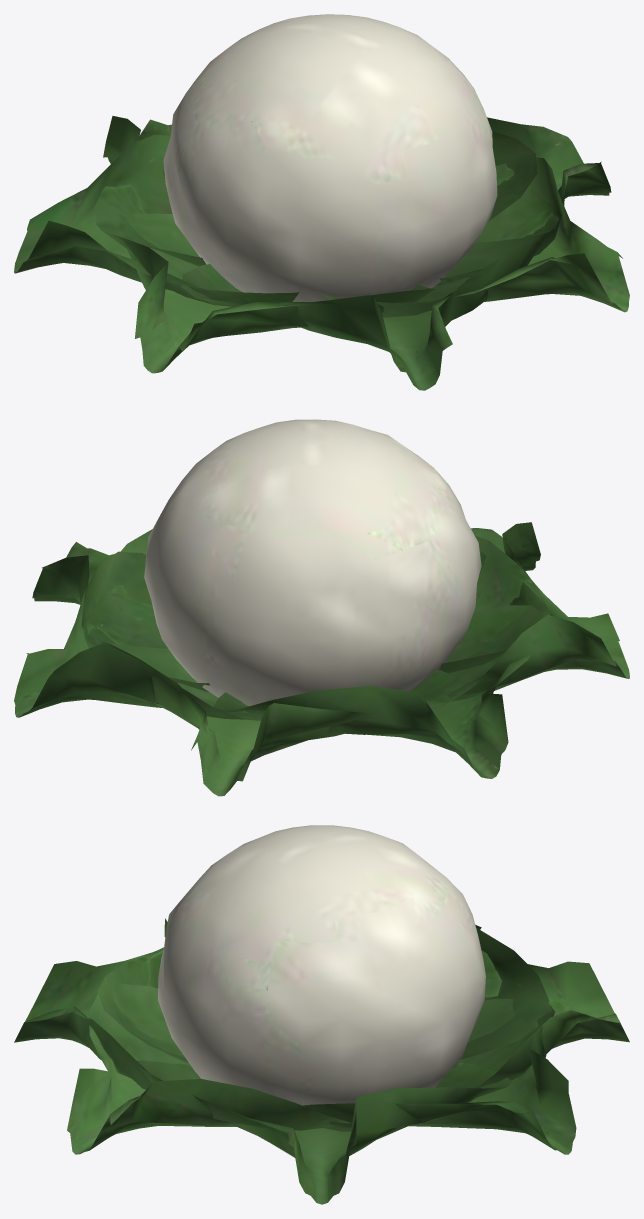
The model's file is crop_cauliflower.glb.
3 views of the same model, one above another, from view 1: azimuth 30°, elevation 25°; view 2: azimuth 150°, elevation 25°; view 3: azimuth 270°, elevation 25° (orthographic).
Visible parts, largest first — view 1: fruit, crop_cauliflower; view 2: fruit, crop_cauliflower; view 3: fruit, crop_cauliflower.
Boxes of the visible parts, box(x1,y1,x2,y2) form: fruit: box(163, 14, 497, 301); crop_cauliflower: box(14, 116, 629, 390); fruit: box(144, 419, 481, 706); crop_cauliflower: box(14, 522, 629, 796); fruit: box(158, 825, 485, 1105); crop_cauliflower: box(14, 918, 629, 1204).
Bounding box in the file's own units: 0.2748 × 0.135 × 0.2809.
Materials: 1 (1 with a texture image).
